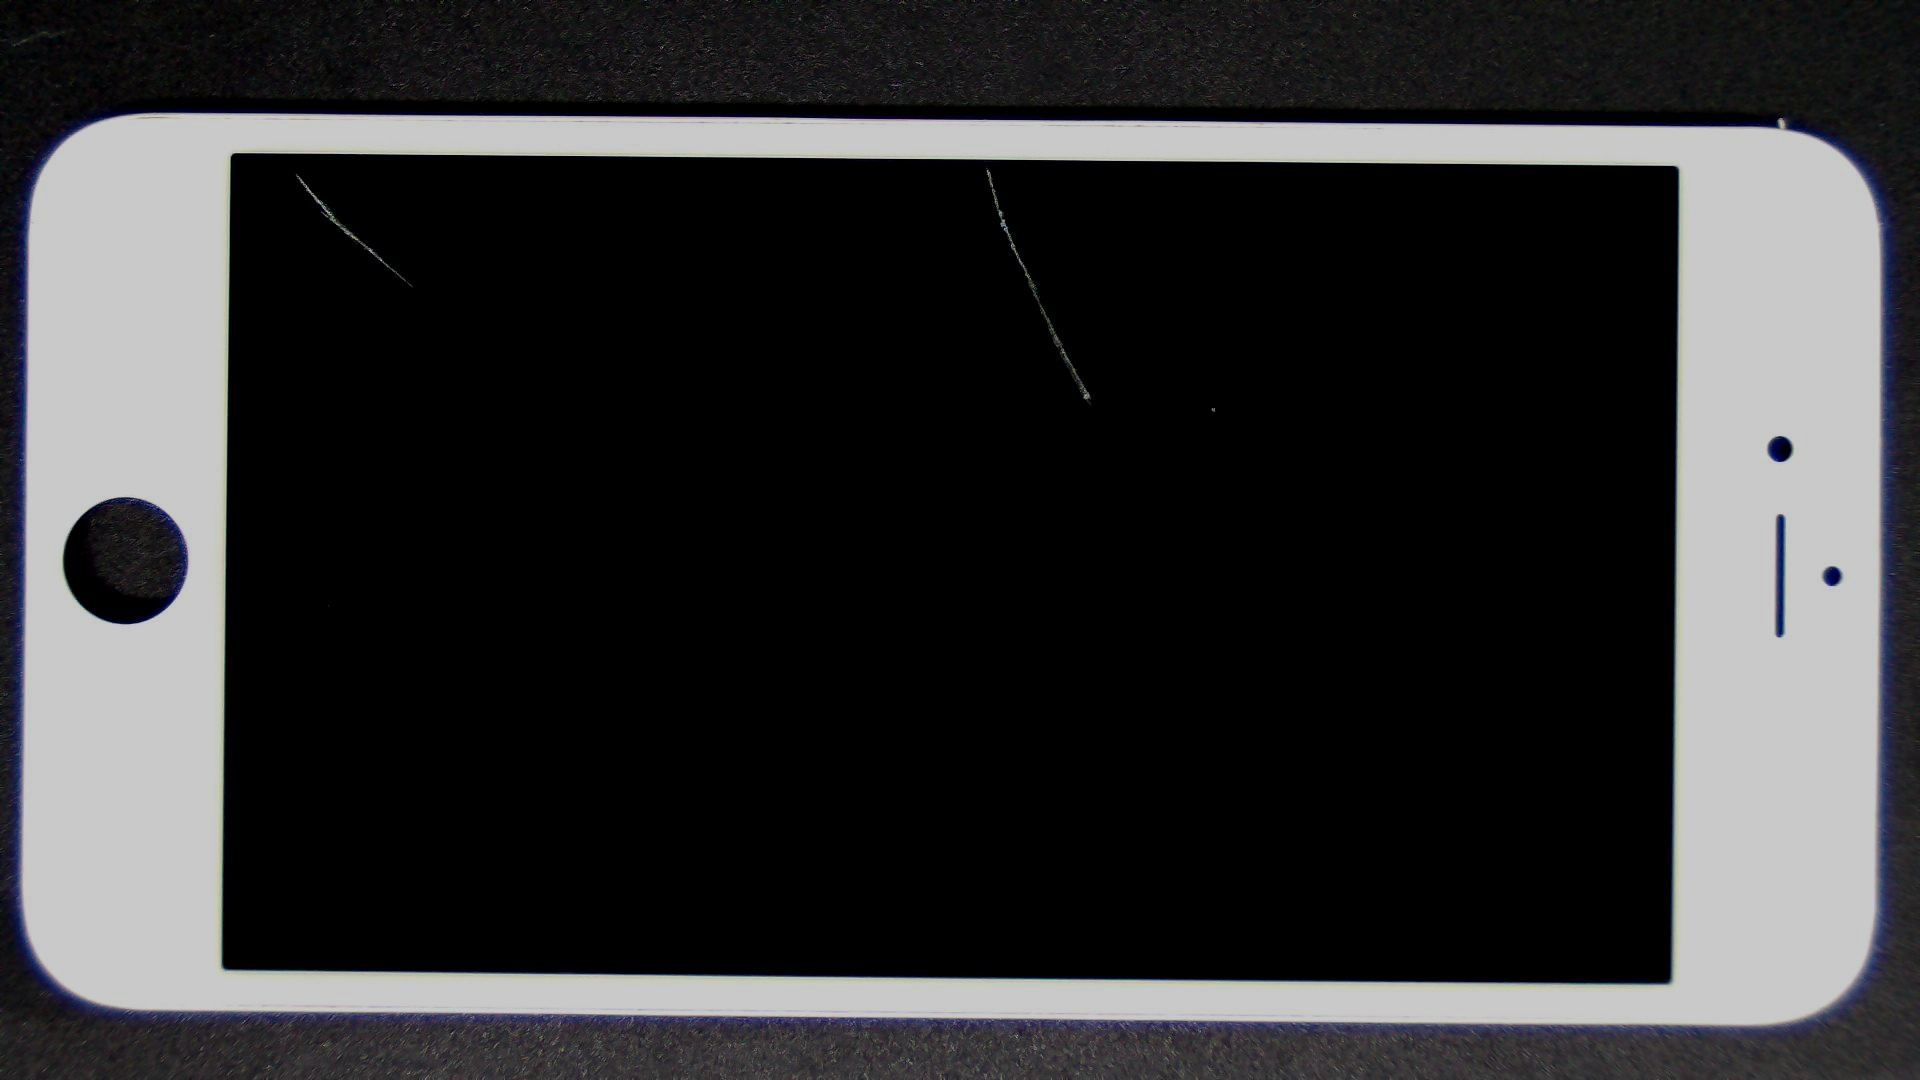oil: (492, 80, 1476, 251), (146, 84, 439, 257)
